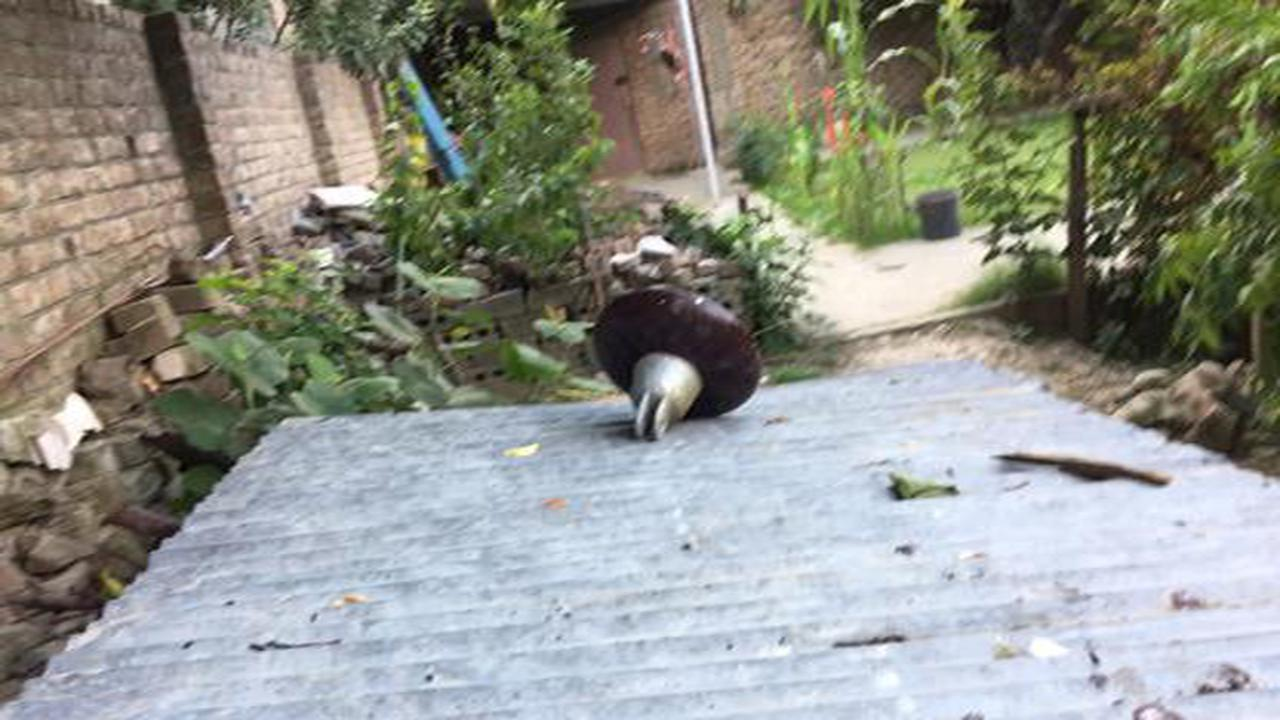insulator_disc: (589, 283, 772, 446)
